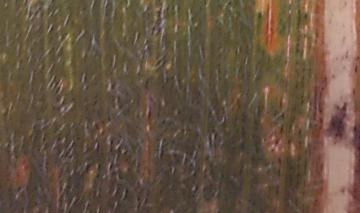tarspot: (329, 101, 348, 140), (274, 123, 284, 146), (84, 162, 93, 174), (146, 105, 152, 120), (296, 126, 304, 136), (275, 166, 283, 175), (353, 63, 359, 75), (352, 124, 358, 135), (351, 86, 357, 97), (286, 138, 294, 145), (276, 156, 282, 165), (355, 54, 360, 59)
